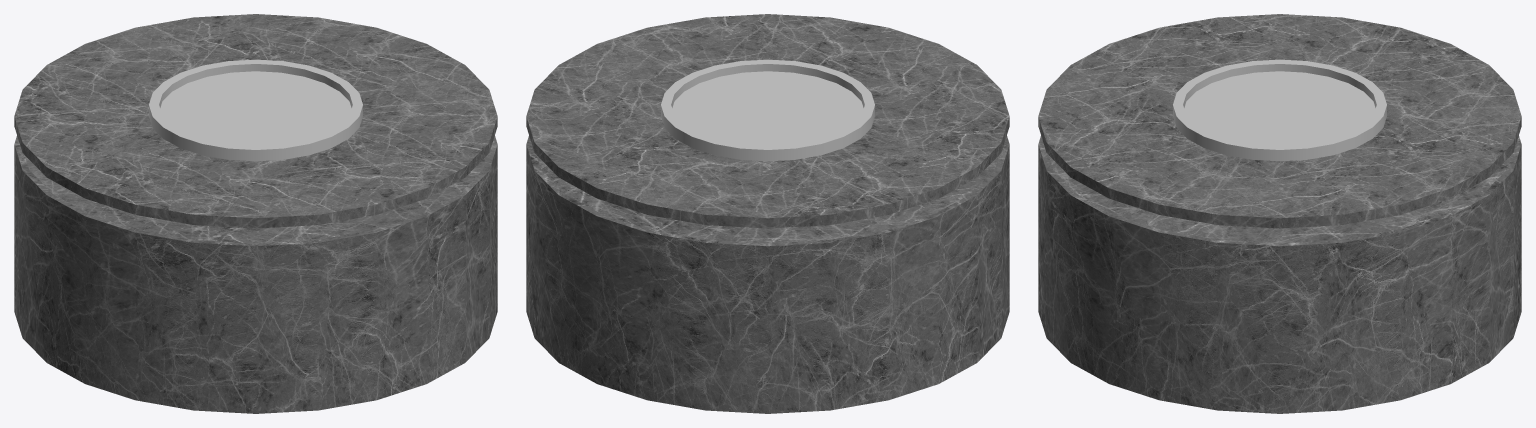
Rendered from D_Pot_008.fbx.
The picture shows the model from 3 angles, left to right: view 1: azimuth 30°, elevation 25°; view 2: azimuth 150°, elevation 25°; view 3: azimuth 270°, elevation 25°; orthographic projection.
Parts seen in each view (by area): view 1: D_Pot_008; view 2: D_Pot_008; view 3: D_Pot_008.
Part boxes in pixels (x1=…): D_Pot_008: x1=14, y1=14, x2=497, y2=413; D_Pot_008: x1=526, y1=14, x2=1009, y2=413; D_Pot_008: x1=1038, y1=14, x2=1521, y2=413.
Bounding box in the file's own units: 2.13 × 1 × 2.13.
